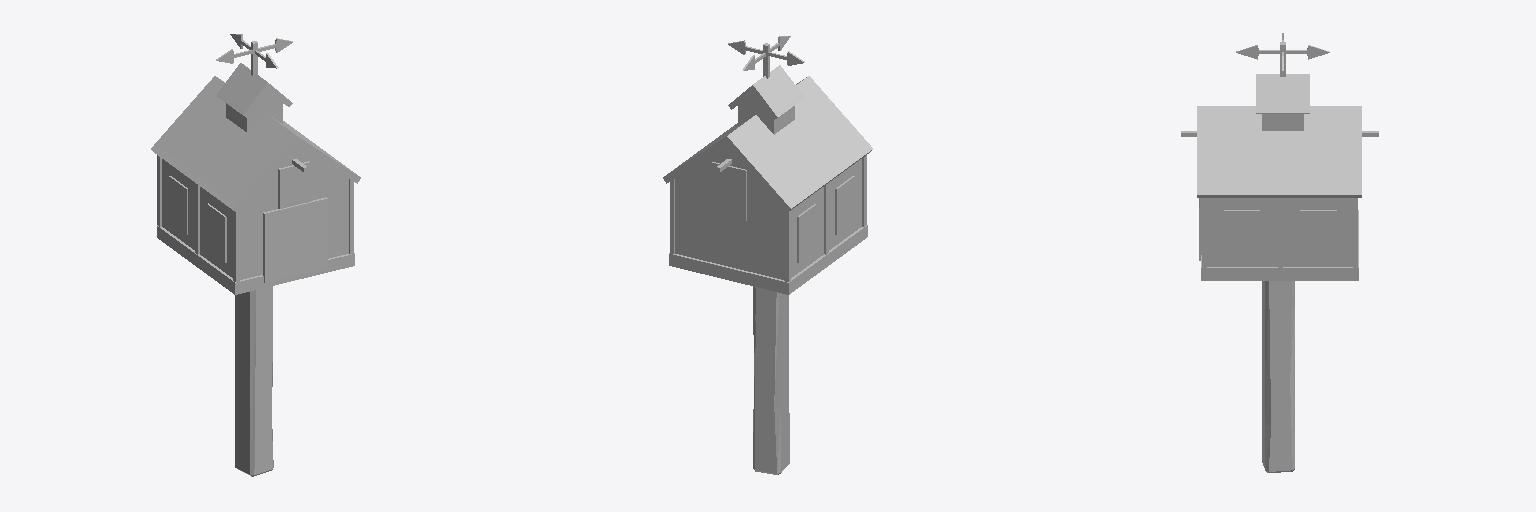
Rendered from SM_Prop_LetterBox_03.obj.
3 views of the same model, side by side, from view 1: azimuth 30°, elevation 25°; view 2: azimuth 150°, elevation 25°; view 3: azimuth 270°, elevation 25° (orthographic).
Bounding box in the file's own units: 52.86 × 167 × 70.4.